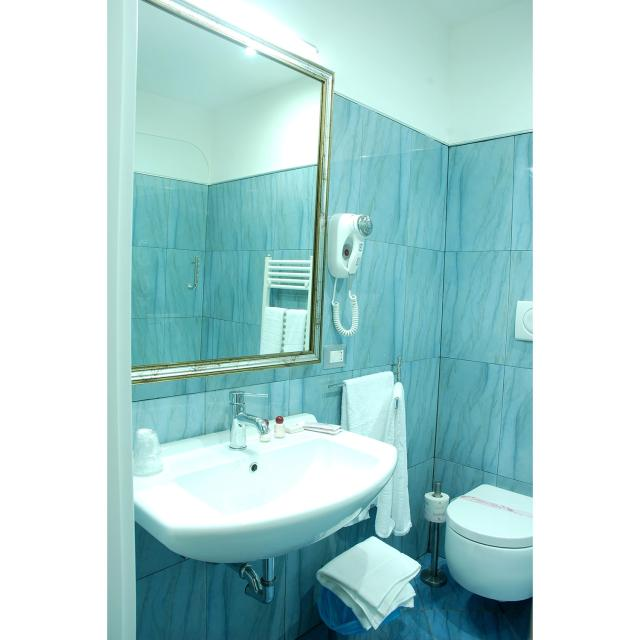dryer: (314, 196, 399, 352)
